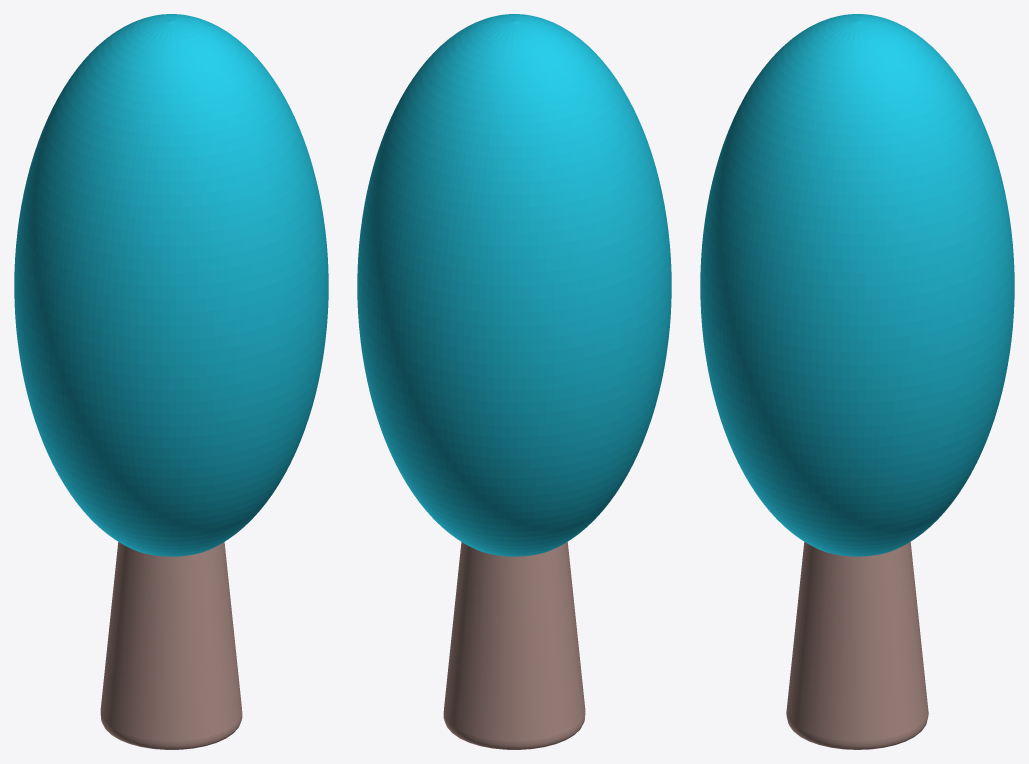
Rendered from blueL.fbx.
3 views of the same model, side by side, from view 1: azimuth 30°, elevation 25°; view 2: azimuth 150°, elevation 25°; view 3: azimuth 270°, elevation 25° (orthographic).
Parts seen in each view (by area): view 1: Cylinder.001; view 2: Cylinder.001; view 3: Cylinder.001.
Boxes of the visible parts, x1=… form: Cylinder.001: x1=14, y1=14, x2=328, y2=749; Cylinder.001: x1=357, y1=14, x2=671, y2=749; Cylinder.001: x1=700, y1=14, x2=1014, y2=749.
Bounding box in the file's own units: 197 × 485 × 197.
